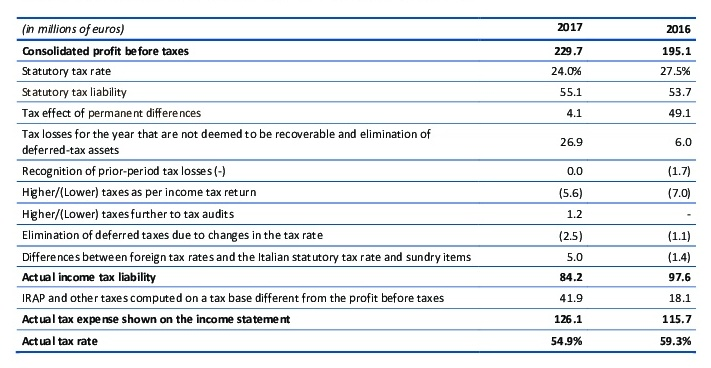table: (0, 0, 711, 368)
